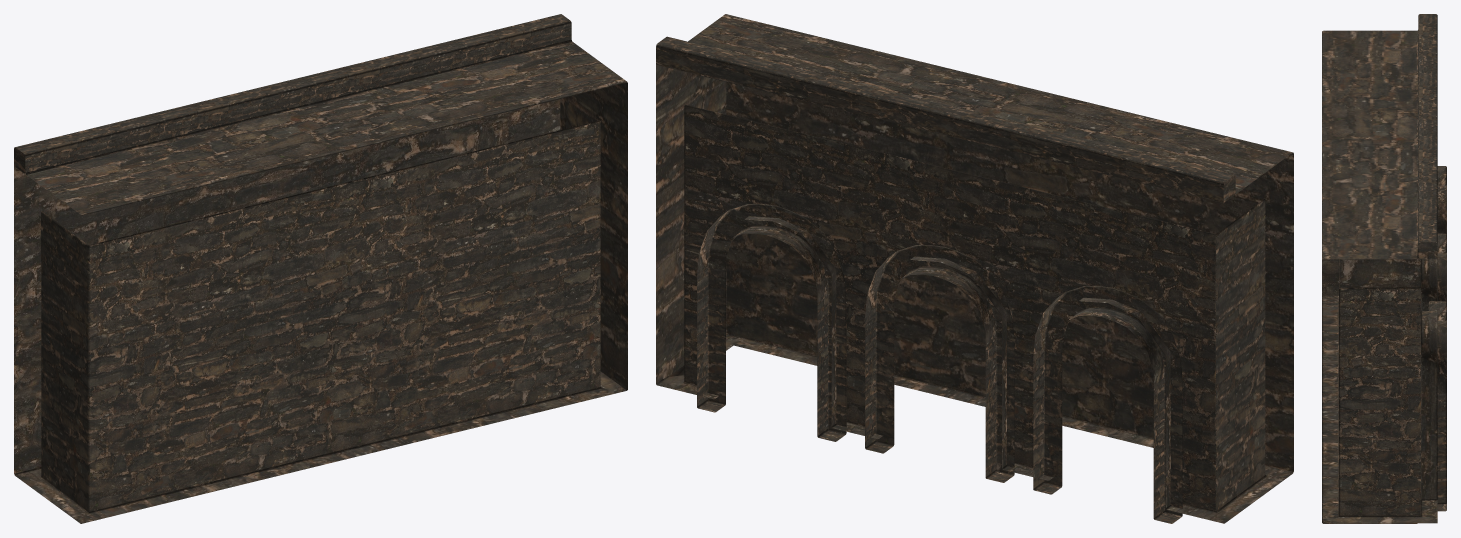
Rendered from block_28.glb.
The picture shows the model from 3 angles, left to right: view 1: azimuth 30°, elevation 25°; view 2: azimuth 150°, elevation 25°; view 3: azimuth 270°, elevation 25°; orthographic projection. The views are drawn at different scales.
Visible parts, largest first — view 1: block_28; view 2: block_28; view 3: block_28.
Boxes of the visible parts, x1,y1,x2,y2 form: block_28: [14, 14, 627, 523]; block_28: [656, 14, 1293, 523]; block_28: [1322, 14, 1446, 523].
Bounding box in the file's own units: 13.11 × 7.7 × 3.03.
Materials: 3 (3 with a texture image).
